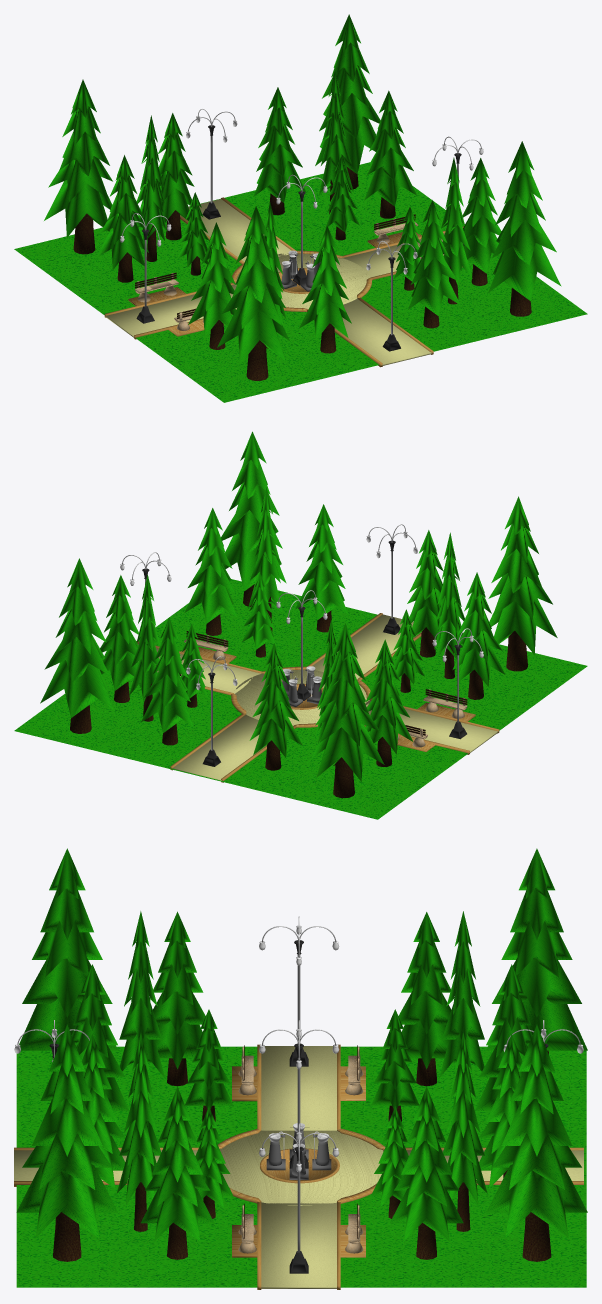
File: parque-tunal.glb
The picture shows the model from 3 angles, top to bottom: view 1: azimuth 30°, elevation 25°; view 2: azimuth 150°, elevation 25°; view 3: azimuth 270°, elevation 25°; orthographic projection. The views are drawn at different scales.
Visible parts, largest first — view 1: Object_2, Object_3, Object_9, Object_4, Object_6, Object_15, Object_8, Object_5, Object_10, Object_13, Object_7; view 2: Object_2, Object_3, Object_9, Object_4, Object_15, Object_6, Object_8, Object_10, Object_13, Object_7, Object_5; view 3: Object_2, Object_3, Object_9, Object_4, Object_15, Object_10, Object_8, Object_6, Object_5, Object_7.
Part boxes in pixels (<box>): Object_2: <box>14,14,587,402</box>; Object_3: <box>105,199,444,365</box>; Object_9: <box>73,167,531,380</box>; Object_4: <box>104,197,463,367</box>; Object_6: <box>136,125,463,351</box>; Object_15: <box>135,218,443,330</box>; Object_8: <box>122,109,481,268</box>; Object_5: <box>144,136,458,335</box>; Object_10: <box>281,254,320,291</box>; Object_13: <box>135,214,443,318</box>; Object_7: <box>120,116,483,274</box>; Object_2: <box>14,431,587,819</box>; Object_3: <box>138,614,498,780</box>; Object_9: <box>70,584,527,798</box>; Object_4: <box>136,613,499,782</box>; Object_15: <box>157,635,467,747</box>; Object_6: <box>142,540,466,766</box>; Object_8: <box>122,524,481,683</box>; Object_10: <box>282,669,321,707</box>; Object_13: <box>156,631,467,735</box>; Object_7: <box>120,531,483,690</box>; Object_5: <box>145,551,458,750</box>; Object_2: <box>16,848,587,1287</box>; Object_3: <box>14,1046,583,1288</box>; Object_9: <box>53,1050,551,1261</box>; Object_4: <box>14,1044,583,1289</box>; Object_15: <box>238,1046,363,1253</box>; Object_10: <box>266,1129,331,1179</box>; Object_8: <box>17,916,580,1164</box>; Object_6: <box>49,940,548,1273</box>; Object_5: <box>53,954,300,1252</box>; Object_7: <box>14,925,583,1172</box>.
Bounding box in the file's own units: 12 × 5.44 × 12.08.
Materials: 13 (13 with a texture image).
